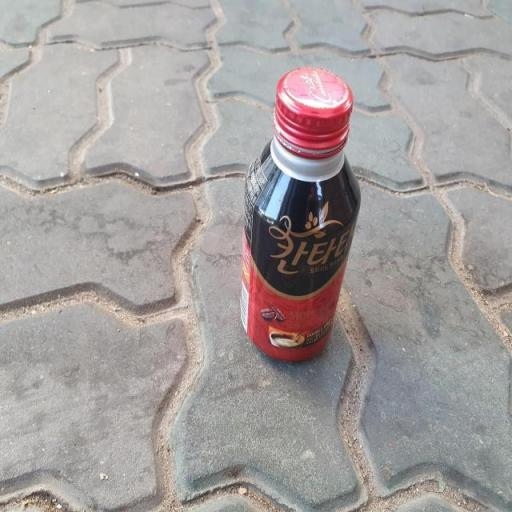metal: (212, 39, 410, 426)
